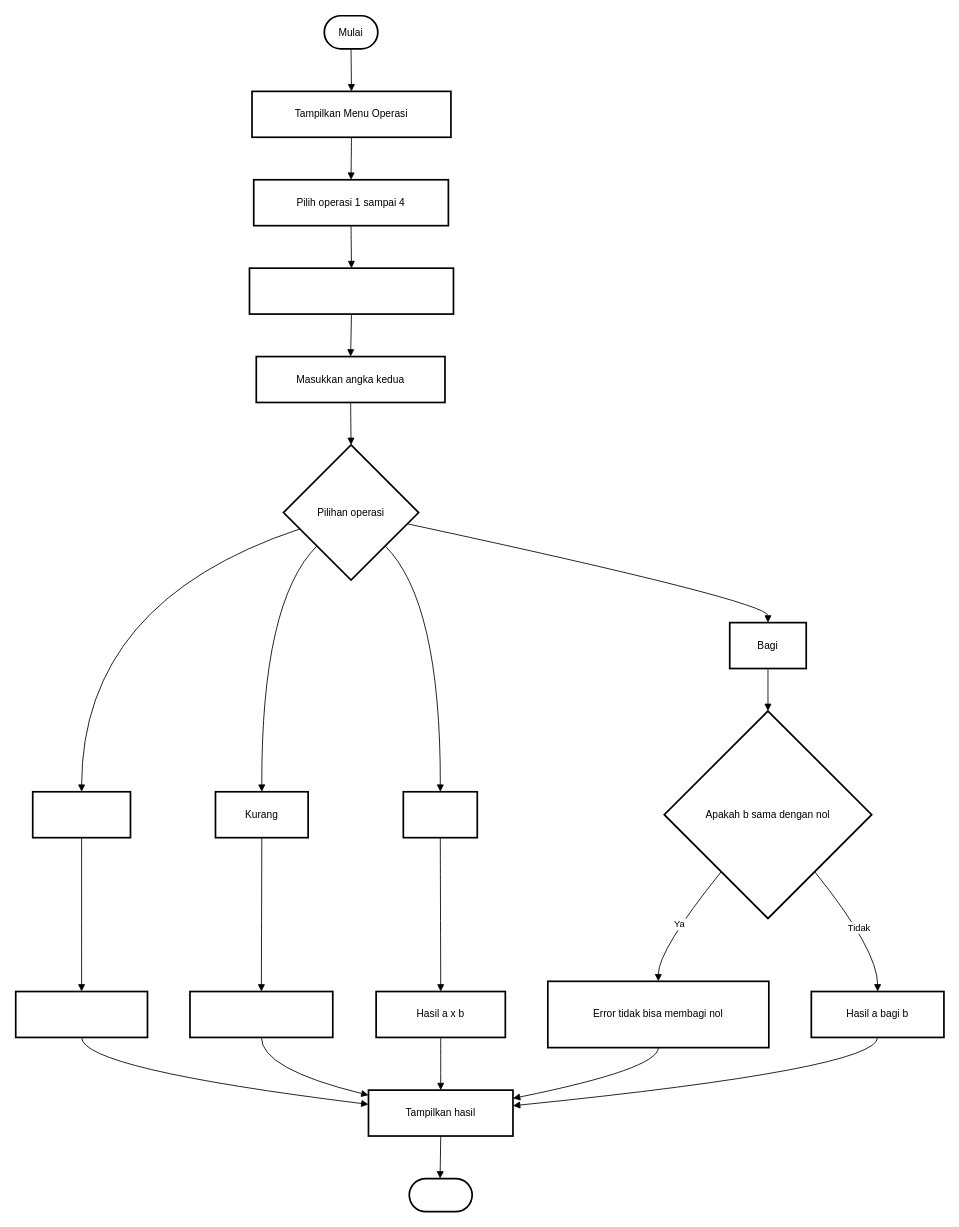
Some shapes in this 959 by 1227 pixel diagram are drawn without their labels. The centre of each missing label's shape, as x and y in pixels:
Hasil a + b: point 81,1014
Hasil a - b: point 261,1014
Kali: point 440,814
Masukkan angka pertama: point 351,290
Selesai: point 440,1194
Tambah: point 81,814
